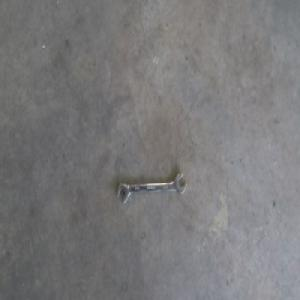Wrench: (117, 171, 186, 199)
